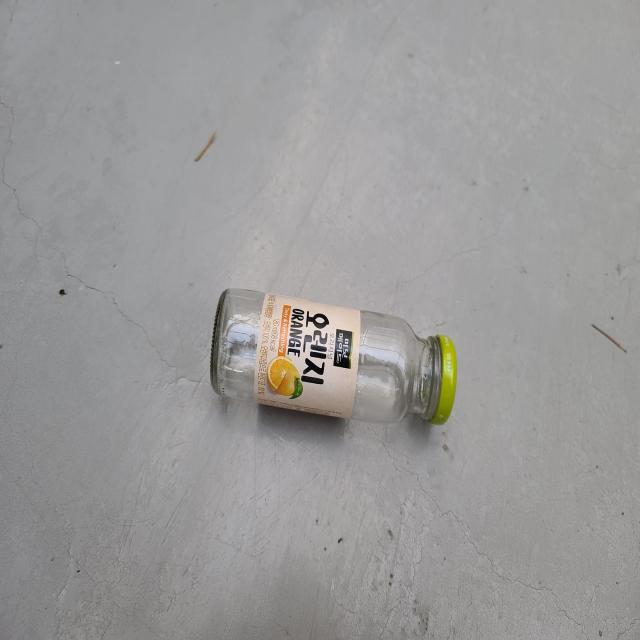glass: (210, 289, 457, 424)
